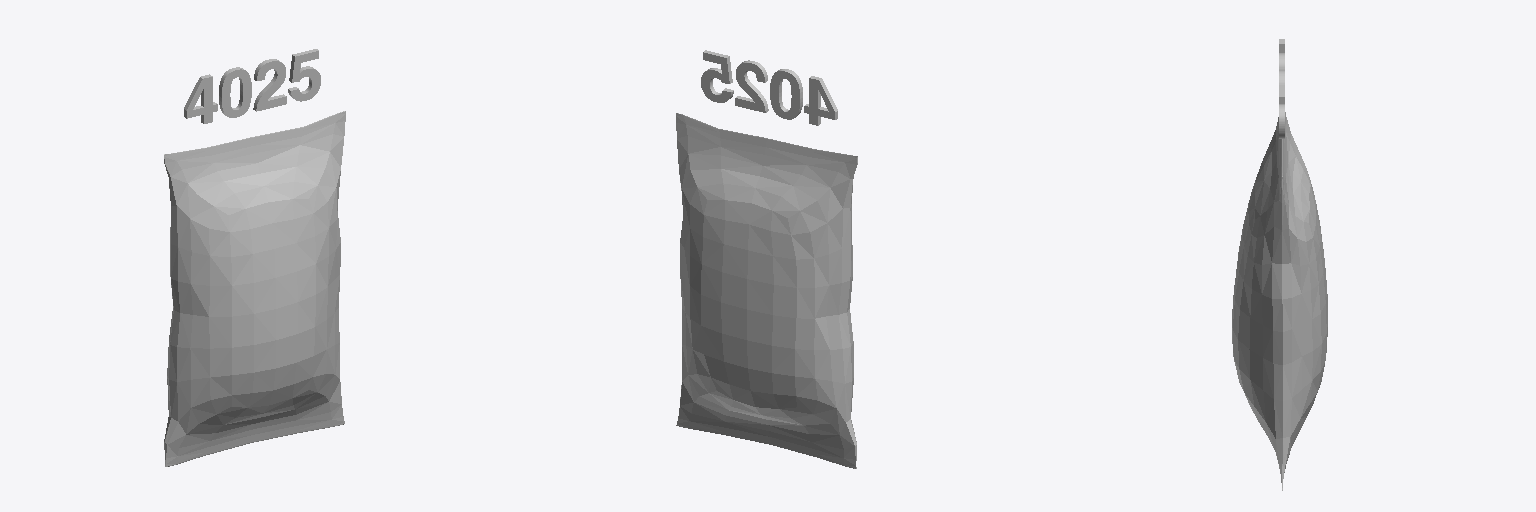
Rendered from PAPAS_CODIGO_4025.obj.
The picture shows the model from 3 angles: view 1: azimuth 30°, elevation 25°; view 2: azimuth 150°, elevation 25°; view 3: azimuth 270°, elevation 25°; orthographic projection.
Visible parts, largest first — view 1: BOLSA_PAPAS_FRENTE, 4025; view 2: BOLSA_PAPAS_VUELTA, 4025; view 3: BOLSA_PAPAS_FRENTE, BOLSA_PAPAS_VUELTA, 4025.
Part boxes in pixels (x1,y1,x2,y2): BOLSA_PAPAS_FRENTE: (164, 111, 345, 466); 4025: (184, 49, 320, 123); BOLSA_PAPAS_VUELTA: (676, 113, 857, 468); 4025: (701, 50, 837, 125); BOLSA_PAPAS_FRENTE: (1232, 117, 1282, 482); BOLSA_PAPAS_VUELTA: (1282, 112, 1327, 490); 4025: (1279, 39, 1284, 138).
Bounding box in the file's own units: 1804 × 3625 × 831.